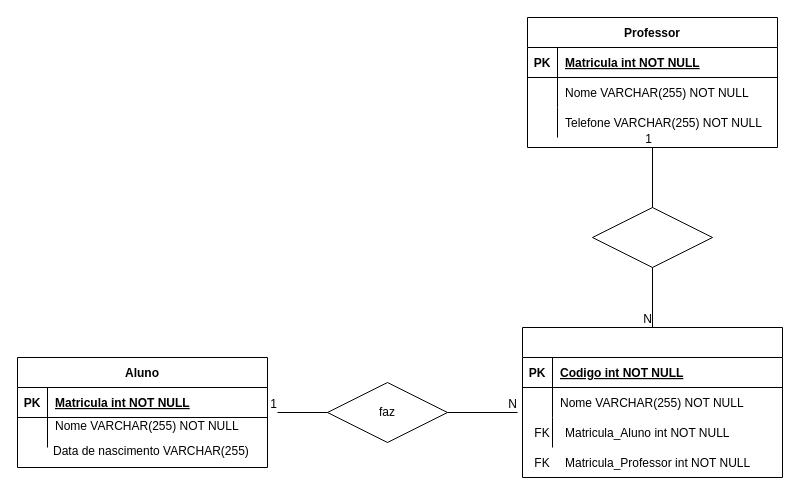
Image size: 805x495. Some labels were removed from this diagram. Each missing label, with the box of its shape:
Disciplina: (522, 326, 782, 478)
ministra: (592, 206, 712, 268)
